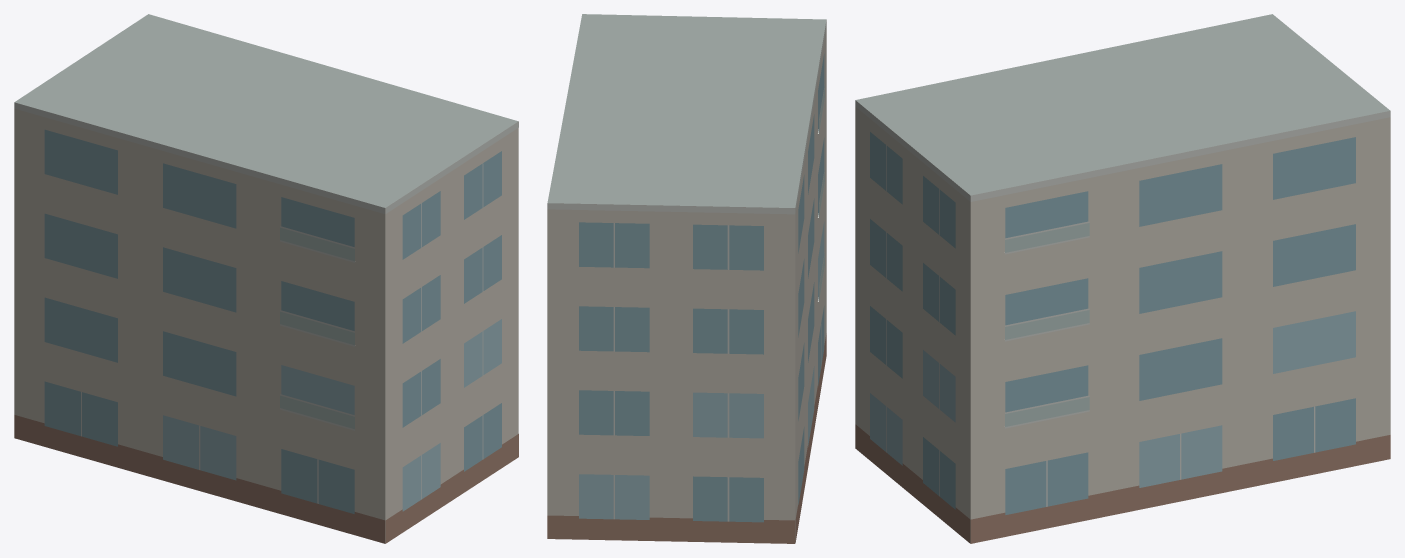
Rendered from survey-upis-32723563.glb.
The picture shows the model from 3 angles, left to right: view 1: azimuth 30°, elevation 25°; view 2: azimuth 150°, elevation 25°; view 3: azimuth 270°, elevation 25°; orthographic projection. The views are drawn at different scales.
Parts seen in each view (by area): view 1: survey-upis-32723563.tmp; view 2: survey-upis-32723563.tmp; view 3: survey-upis-32723563.tmp.
Part boxes in pixels (left/top/right/bottom): survey-upis-32723563.tmp: left=14, top=14, right=518, bottom=543; survey-upis-32723563.tmp: left=547, top=14, right=826, bottom=543; survey-upis-32723563.tmp: left=855, top=14, right=1390, bottom=543.
Bounding box in the file's own units: 14.77 × 13.2 × 18.39.
